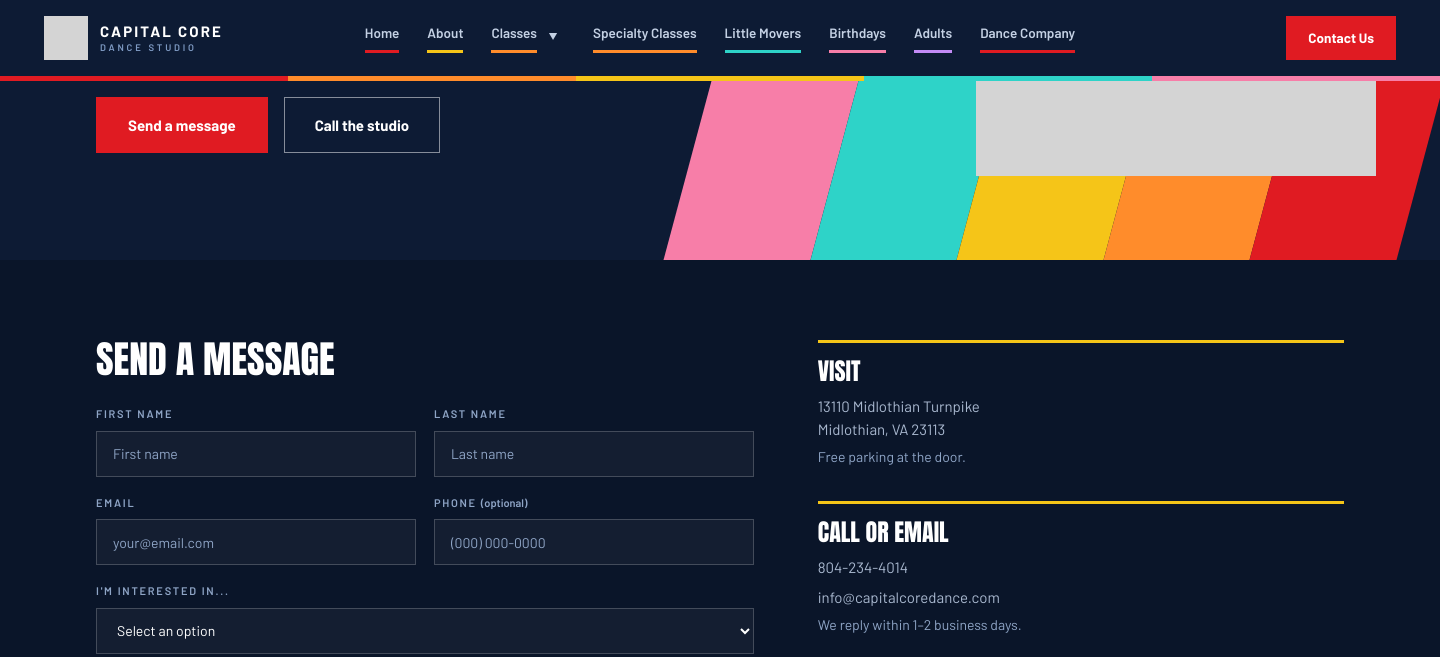
confirms to the visitor only when the email actually sent
The width and height of the screenshot is (1440, 657).
(page scrolled)
Type "Jane" into the field with placeholder "First Name" at x=256, y=454, box [96,430,416,476]
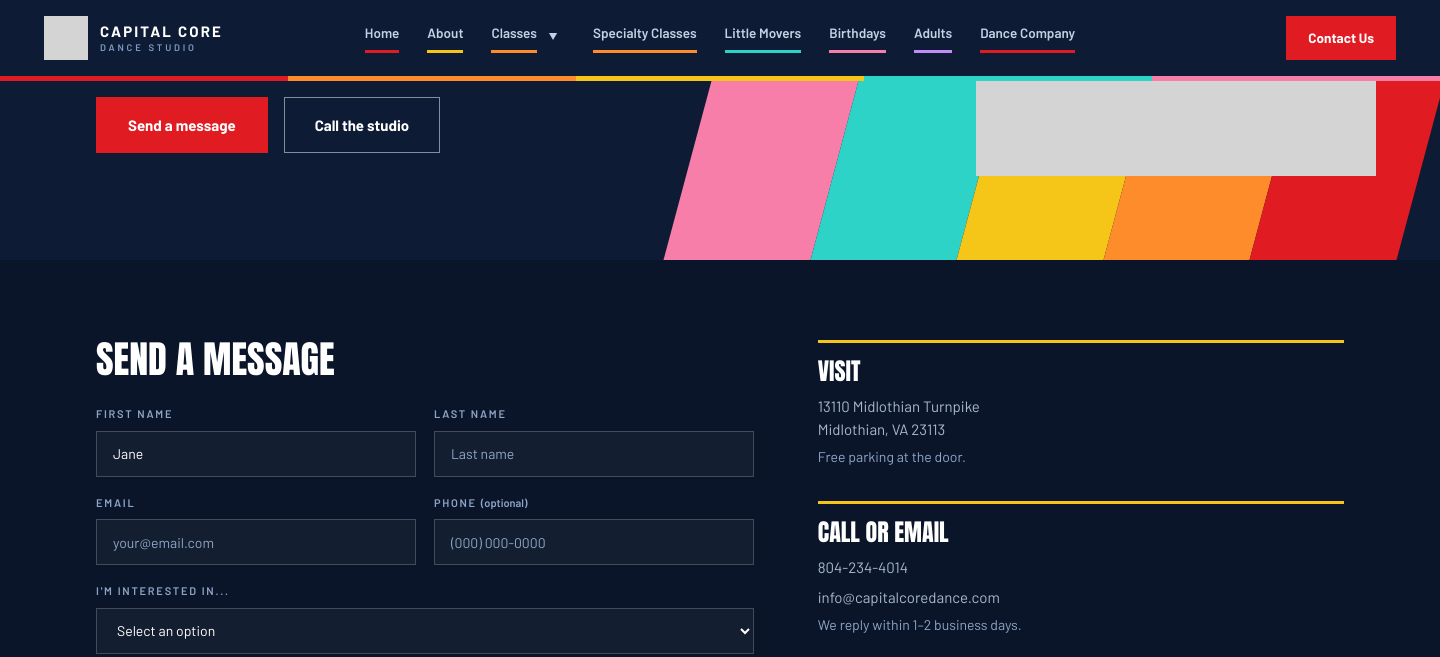
Type "Doe" into the field with placeholder "Last Name" at x=594, y=454, box [434,430,754,476]
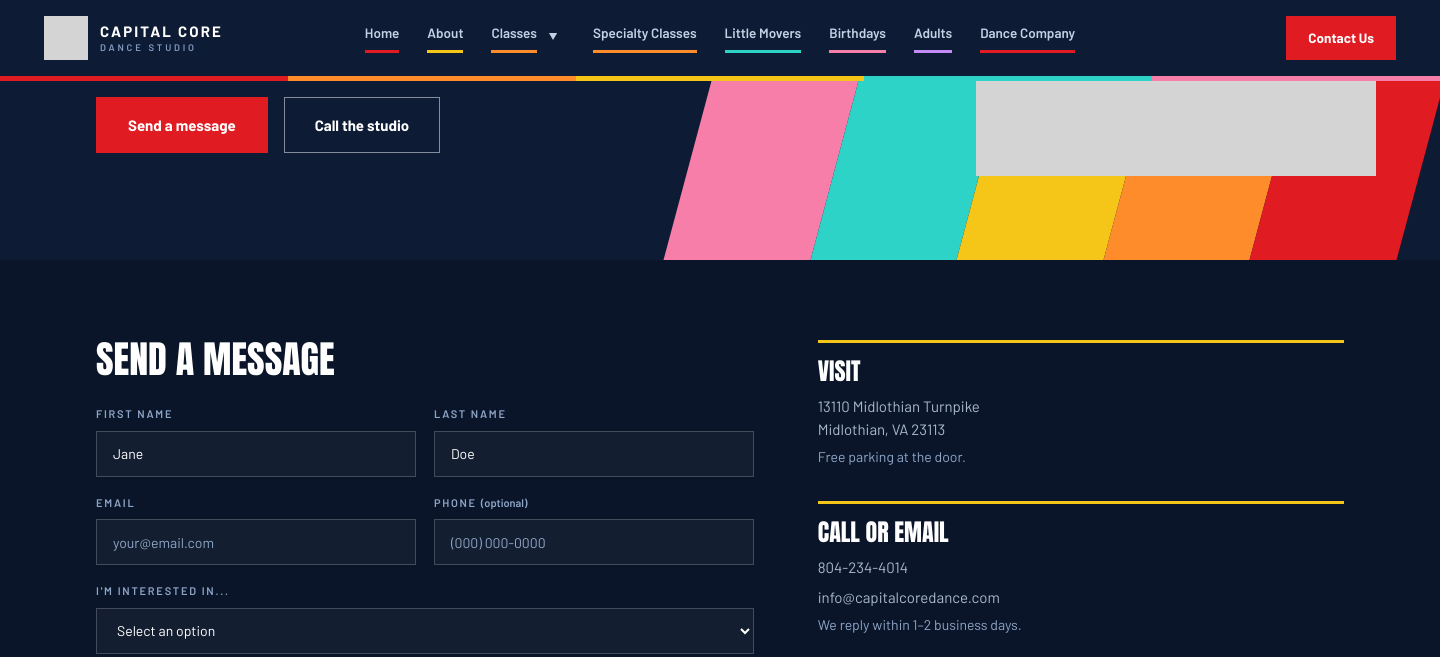
Type "jane@example.com" into the field with placeholder "your@email.com" at x=256, y=542, box [96,519,416,565]
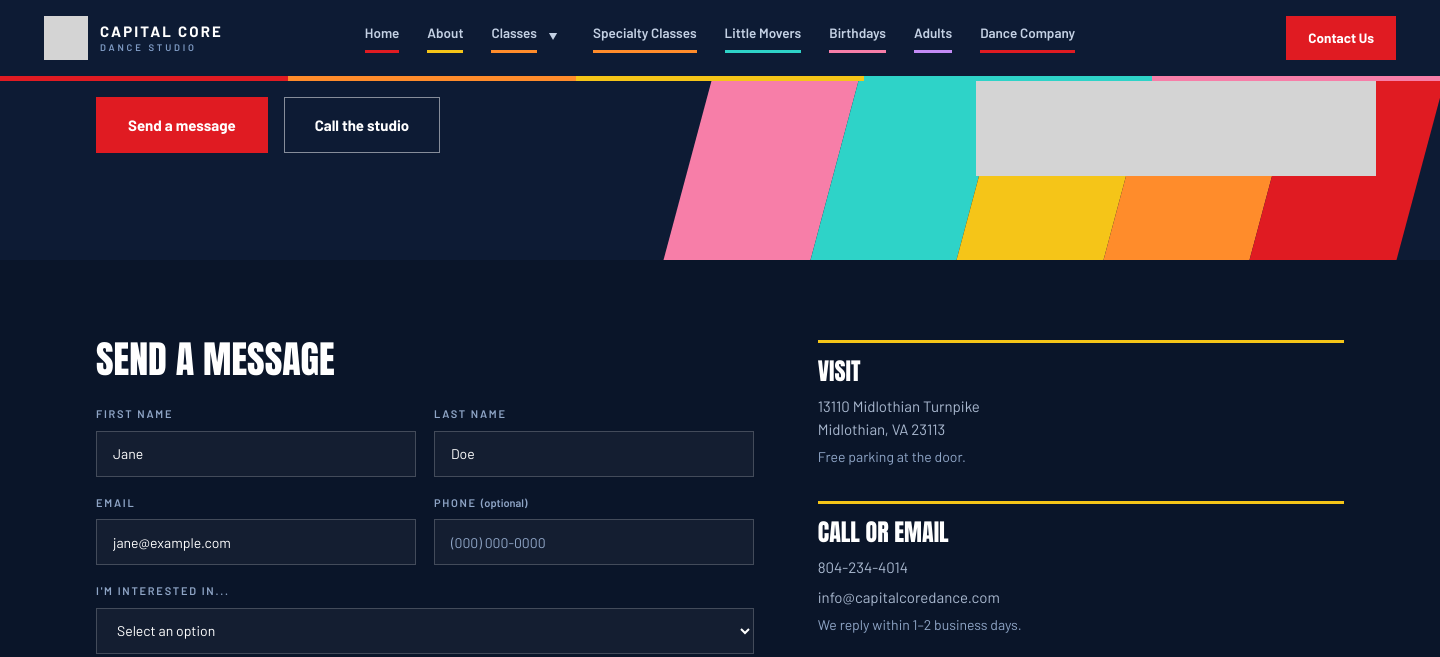
Type "8045551234" into the field with placeholder "(000) 000-0000" at x=594, y=542, box [434,519,754,565]
(page scrolled)
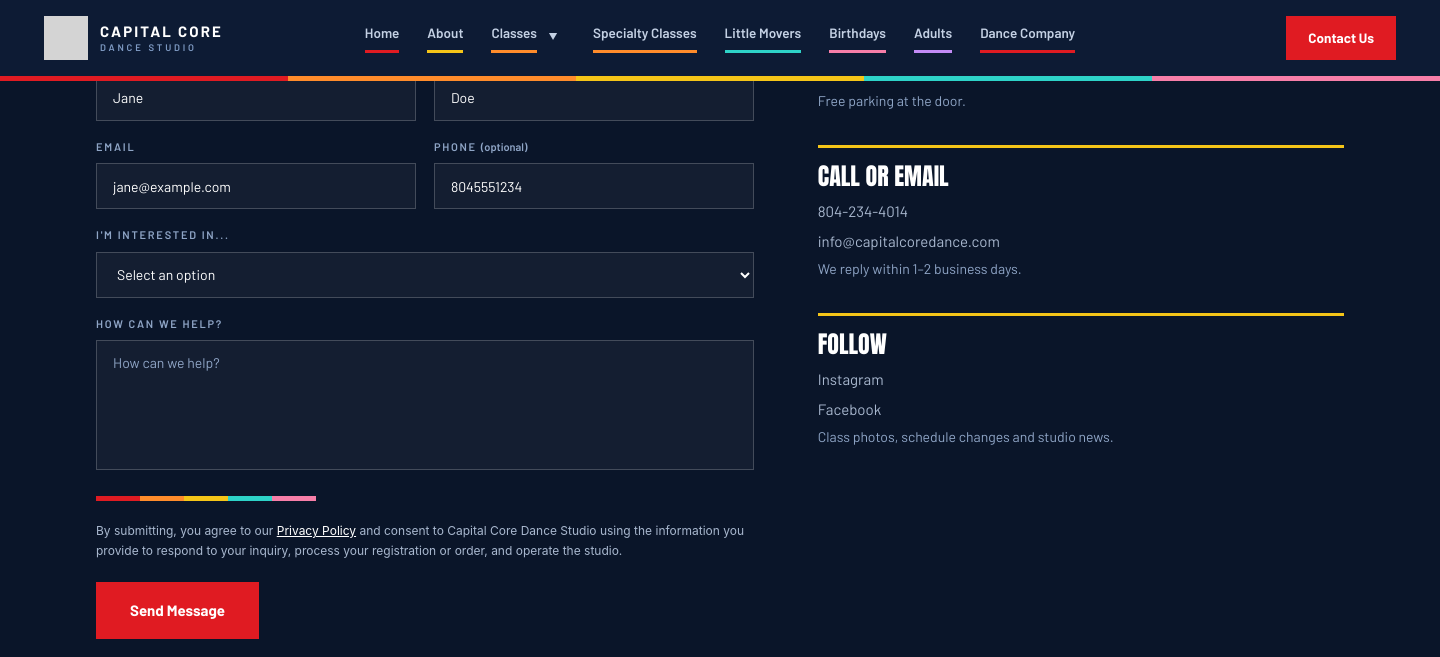
Type "Hello" into the text box with placeholder "How can we help?" at x=425, y=405, box [96,340,754,470]
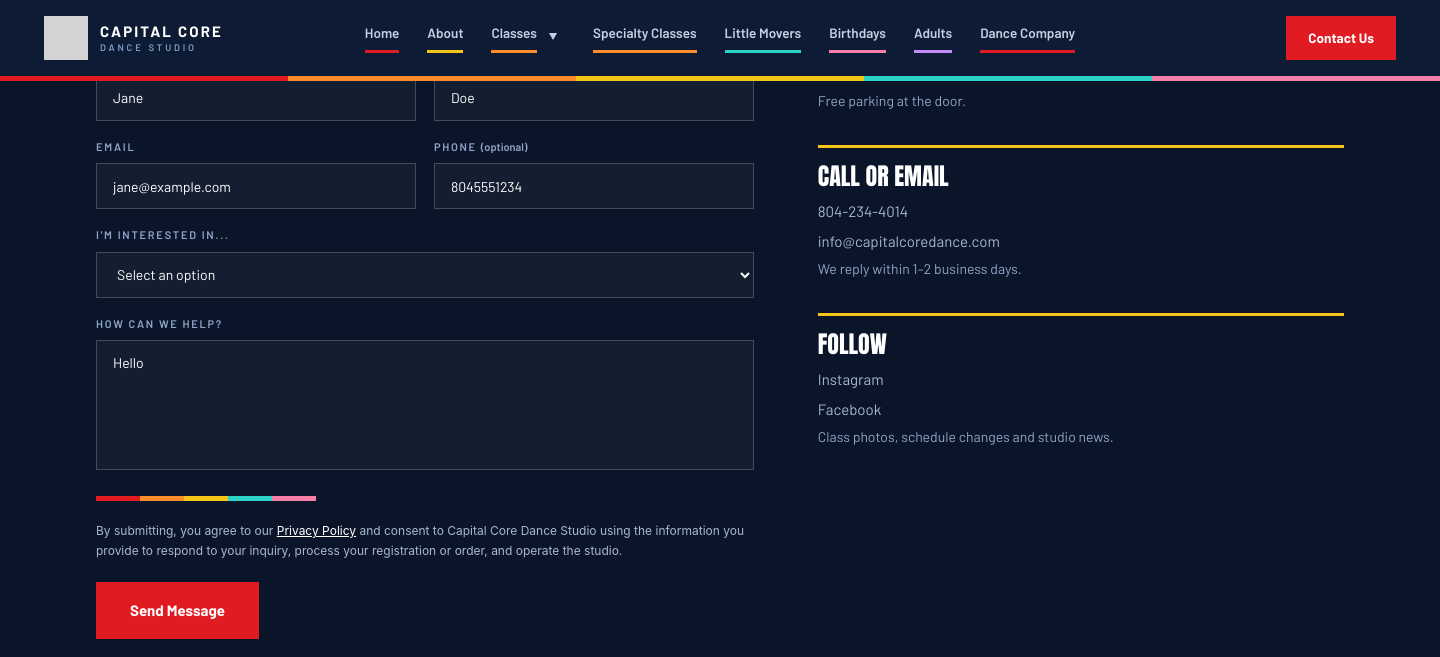
Click the button "Send Message" at x=178, y=610, box [96,582,259,638]
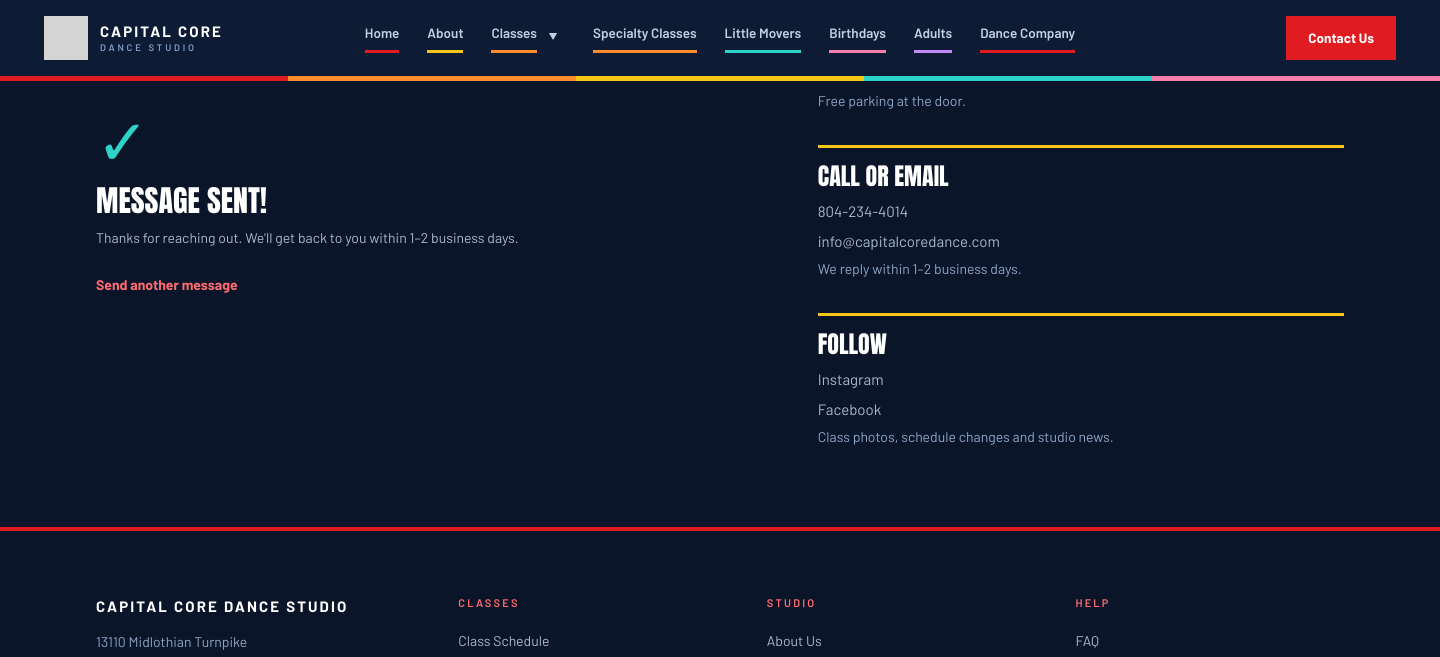
Expected: the heading "Message sent!" is shown, [96,178,267,223]
